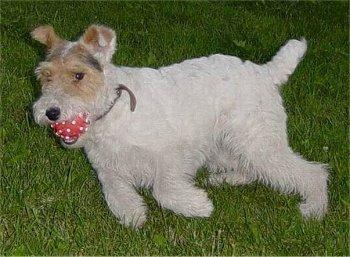wire-haired_fox_terrier: (31, 24, 331, 230)
